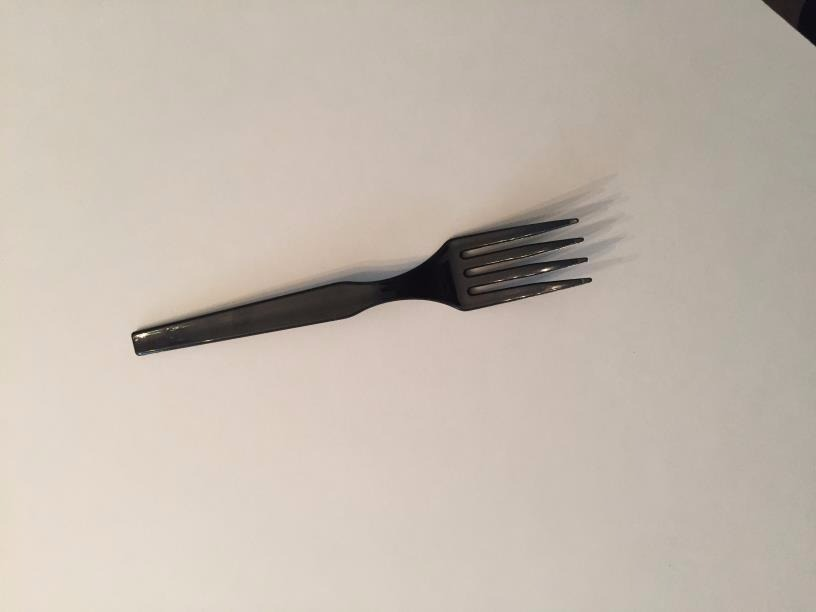fork: (108, 198, 603, 368)
